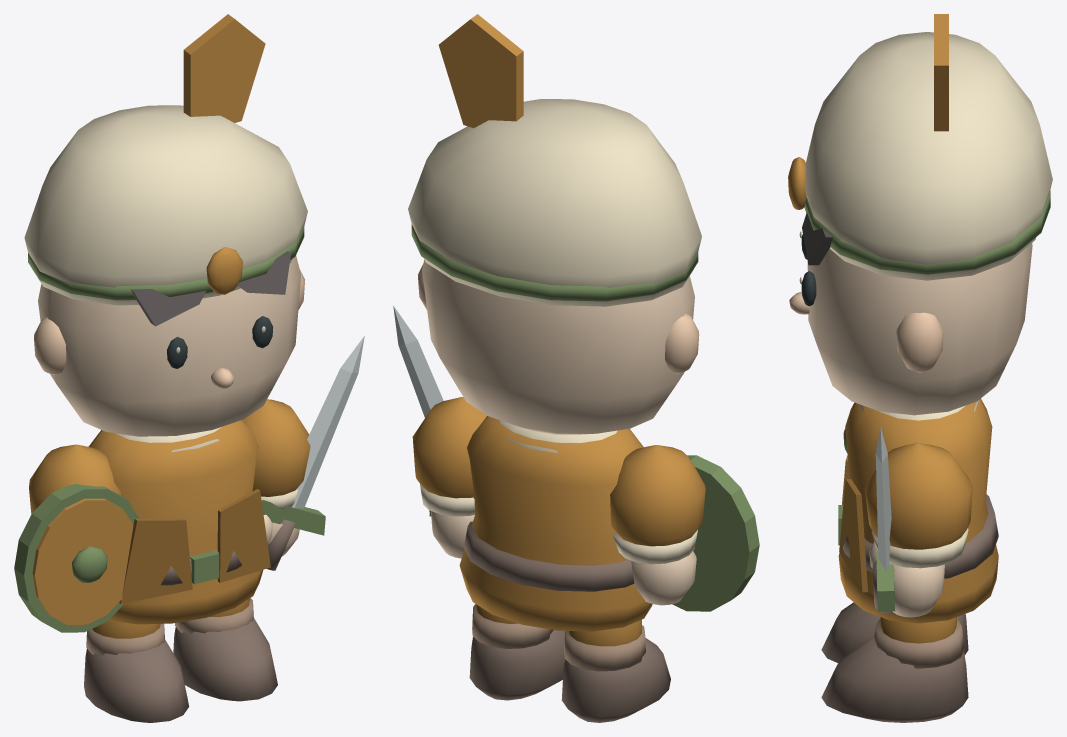
Rendered from warrior.glb.
3 renders of one model, left to right at view 1: azimuth 30°, elevation 25°; view 2: azimuth 150°, elevation 25°; view 3: azimuth 270°, elevation 25°, orthographic. The views are drawn at different scales.
Visible parts, largest first — view 1: Layered cloth turban, Soft cheek head, Short folded tunic, Regional shield face, Round leather boot, Turban fan, Round leather boot.001, Coat fold, Puff sleeve.001, Shield gold rim, Coat fold.001, Puff sleeve (+14 smaller); view 2: Layered cloth turban, Soft cheek head, Short folded tunic, Puff sleeve, Shield gold rim, Turban fan, Round leather boot, Puff sleeve.001, Round leather boot.001, Broad leather belt, Turban wrapping, Little mitten (+9 smaller); view 3: Layered cloth turban, Soft cheek head, Short folded tunic, Round leather boot.001, Puff sleeve.001, Turban wrapping, Ear.001, Little mitten.001, Boot turn cuff.001, Round leather boot, Coat fold.001, Broad leather belt (+9 smaller).
Boxes of the visible parts, bbox=[...] form: Layered cloth turban: bbox=[24, 105, 307, 305]; Soft cheek head: bbox=[38, 255, 300, 436]; Short folded tunic: bbox=[88, 420, 263, 624]; Regional shield face: bbox=[32, 498, 133, 624]; Round leather boot: bbox=[84, 639, 189, 722]; Turban fan: bbox=[183, 14, 265, 122]; Round leather boot.001: bbox=[173, 617, 277, 701]; Coat fold: bbox=[119, 518, 192, 603]; Puff sleeve.001: bbox=[242, 399, 310, 496]; Shield gold rim: bbox=[14, 484, 139, 632]; Coat fold.001: bbox=[217, 489, 270, 582]; Puff sleeve: bbox=[29, 444, 120, 513]; Layered cloth turban: bbox=[408, 99, 701, 306]; Soft cheek head: bbox=[422, 260, 694, 434]; Short folded tunic: bbox=[459, 416, 652, 631]; Puff sleeve: bbox=[610, 445, 705, 546]; Shield gold rim: bbox=[672, 455, 759, 611]; Turban fan: bbox=[438, 14, 523, 128]; Round leather boot: bbox=[561, 638, 670, 722]; Puff sleeve.001: bbox=[412, 397, 486, 498]; Round leather boot.001: bbox=[469, 630, 565, 700]; Broad leather belt: bbox=[464, 521, 634, 591]; Turban wrapping: bbox=[411, 224, 698, 301]; Little mitten: bbox=[631, 551, 696, 605]; Layered cloth turban: bbox=[804, 32, 1052, 280]; Soft cheek head: bbox=[807, 243, 1032, 415]; Short folded tunic: bbox=[838, 398, 998, 623]; Round leather boot.001: bbox=[821, 635, 968, 722]; Puff sleeve.001: bbox=[864, 443, 972, 549]; Turban wrapping: bbox=[804, 190, 1050, 274]; Ear.001: bbox=[896, 312, 943, 372]; Little mitten.001: bbox=[893, 564, 944, 617]; Boot turn cuff.001: bbox=[874, 619, 964, 668]; Round leather boot: bbox=[821, 602, 968, 662]; Coat fold.001: bbox=[839, 479, 867, 592]; Broad leather belt: bbox=[843, 494, 998, 578].
Size of the model in its own units: 1.02 by 1.81 by 0.612.
